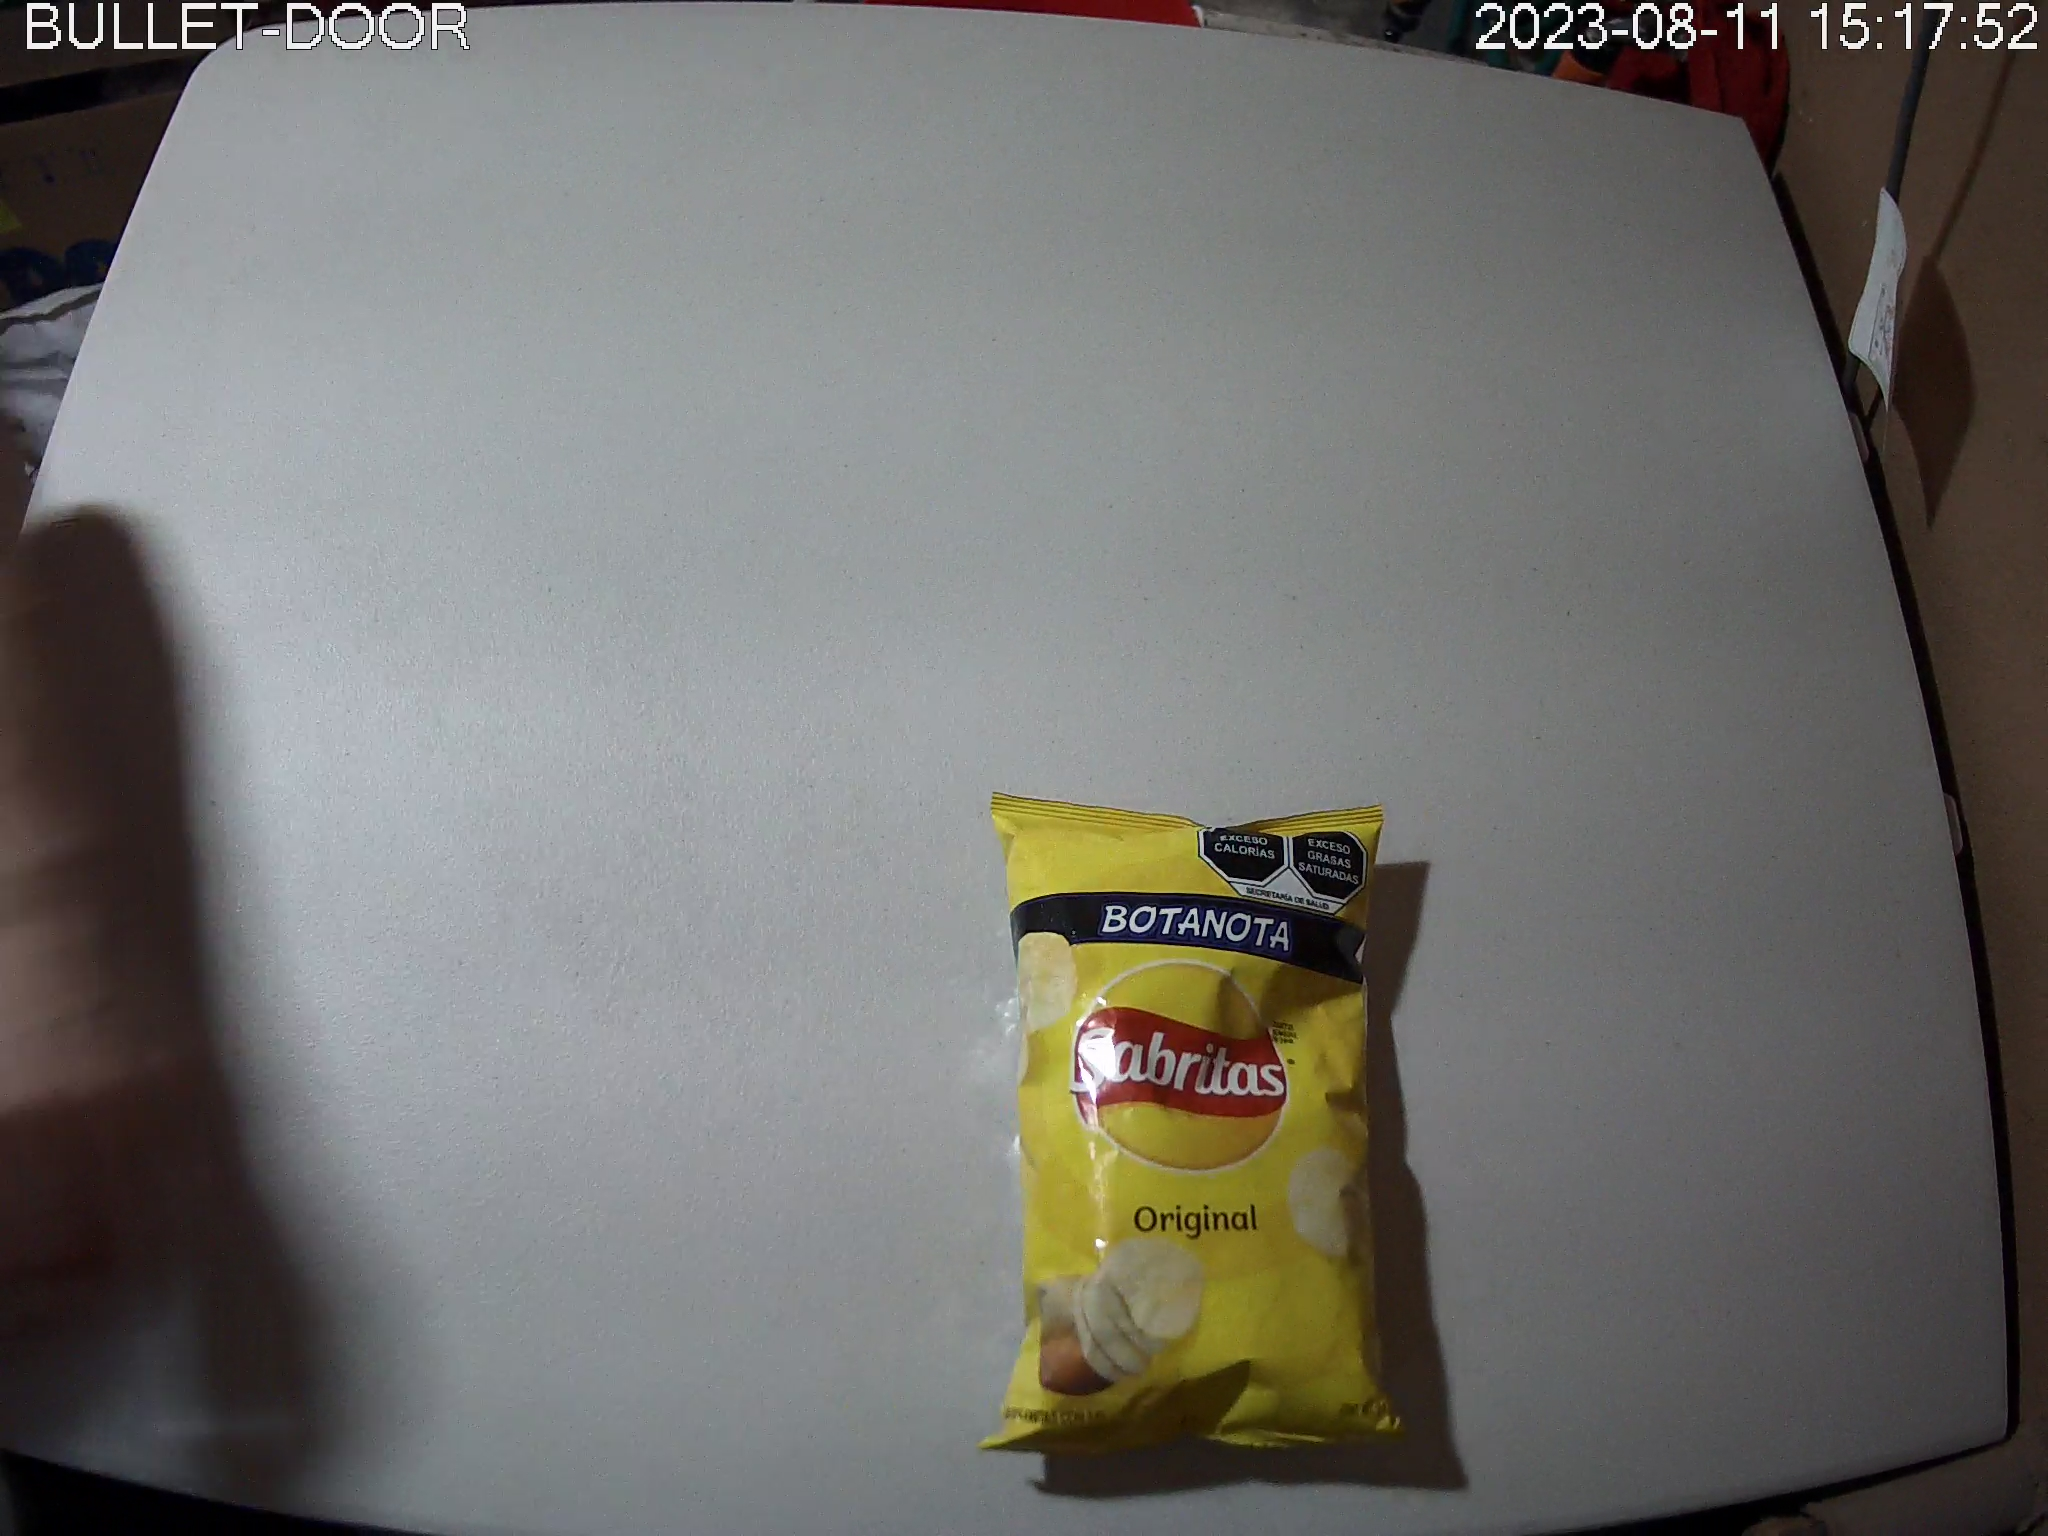Sabritas_64_F: (972, 791, 1406, 1457)
